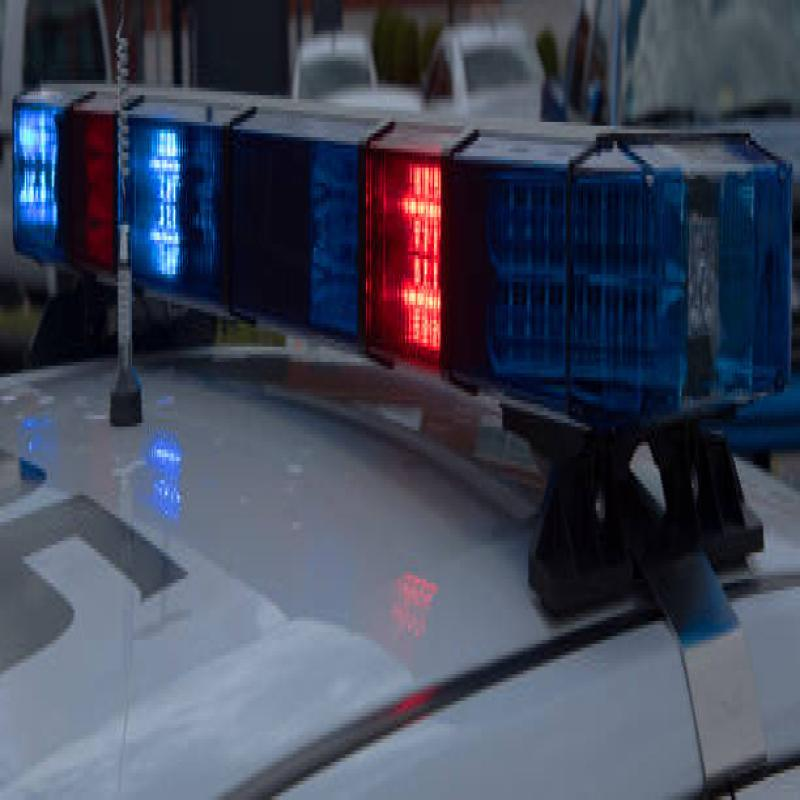AmbulanceSiren: (3, 36, 800, 520)
